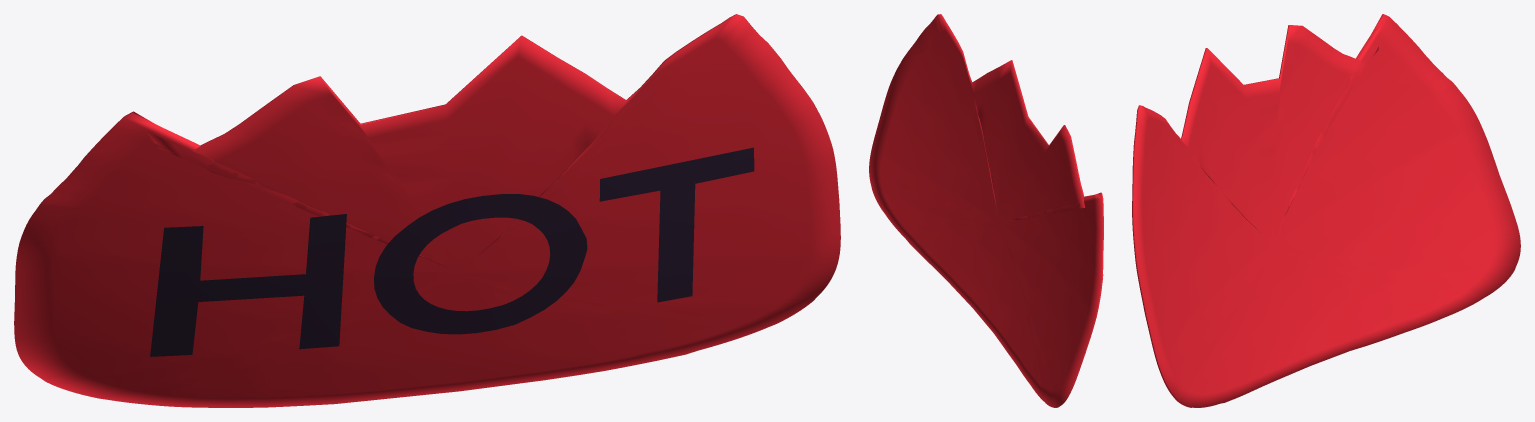
File: Feminine-extra.glb
The picture shows the model from 3 angles, left to right: view 1: azimuth 30°, elevation 25°; view 2: azimuth 150°, elevation 25°; view 3: azimuth 270°, elevation 25°; orthographic projection. The views are drawn at different scales.
Visible parts, largest first — view 1: HOT / original flame silhouette212, HOT / original compact letters212; view 2: HOT / original flame silhouette212; view 3: HOT / original flame silhouette212.
Part boxes in pixels (left/top/right/bottom): HOT / original flame silhouette212: left=14, top=14, right=840, bottom=407; HOT / original compact letters212: left=150, top=147, right=754, bottom=356; HOT / original flame silhouette212: left=869, top=14, right=1103, bottom=407; HOT / original flame silhouette212: left=1132, top=14, right=1520, bottom=407.
Size of the model in its own units: 0.192 by 0.1331 by 0.1338.
